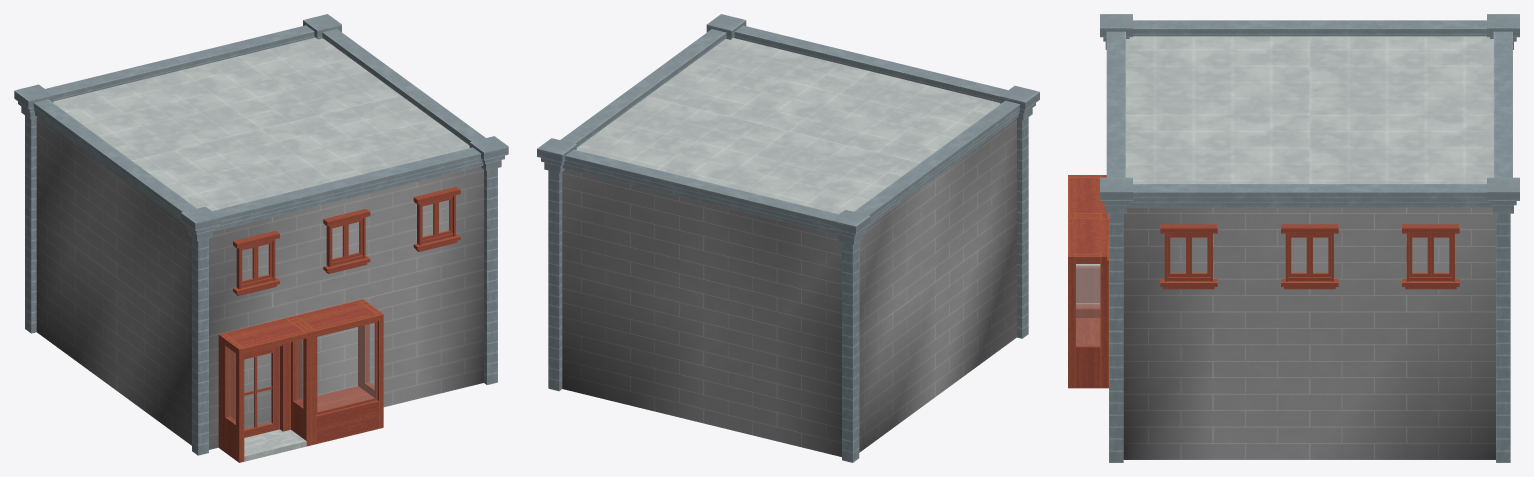
3 renders of one model, left to right at view 1: azimuth 30°, elevation 25°; view 2: azimuth 150°, elevation 25°; view 3: azimuth 270°, elevation 25°, orthographic. The views are drawn at different scales.
Parts seen in each view (by area): view 1: Wall.001, Post.002, Front1WindowHalf.001, Front1.001, Front1Door.001, Front1.002, Window5.007, Window5.010, Window5.004, Window5.005, Window5.008, Window5.011 (+3 smaller); view 2: Wall.001, Post.002; view 3: Wall.001, Post.002, Front1WindowHalf.001, Front1.001, Window5.013, Window5.016, Window5.019, Window5.012, Window5.014, Window5.015, Window5.017, Window5.018 (+1 smaller).
Part boxes in pixels (bbox=[...]): Wall.001: bbox=[36, 117, 483, 449]; Post.002: bbox=[14, 14, 508, 455]; Front1WindowHalf.001: bbox=[291, 299, 383, 444]; Front1.001: bbox=[218, 317, 311, 462]; Front1Door.001: bbox=[244, 346, 279, 437]; Front1.002: bbox=[244, 429, 306, 461]; Window5.007: bbox=[323, 208, 370, 273]; Window5.010: bbox=[413, 186, 460, 251]; Window5.004: bbox=[233, 231, 279, 295]; Window5.005: bbox=[256, 241, 272, 280]; Window5.008: bbox=[346, 219, 362, 258]; Window5.011: bbox=[436, 197, 452, 236]; Wall.001: bbox=[562, 119, 1016, 456]; Post.002: bbox=[537, 14, 1039, 462]; Wall.001: bbox=[1123, 207, 1495, 459]; Post.002: bbox=[1100, 14, 1519, 462]; Front1WindowHalf.001: bbox=[1068, 216, 1108, 388]; Front1.001: bbox=[1068, 175, 1108, 306]; Window5.013: bbox=[1160, 224, 1217, 289]; Window5.016: bbox=[1281, 224, 1338, 289]; Window5.019: bbox=[1402, 224, 1459, 289]; Window5.012: bbox=[1167, 235, 1188, 276]; Window5.014: bbox=[1189, 235, 1210, 276]; Window5.015: bbox=[1288, 235, 1309, 276]; Window5.017: bbox=[1310, 235, 1331, 276]; Window5.018: bbox=[1409, 235, 1430, 276].
Size of the model in its own units: 8.68 by 6.28 by 9.34.
Materials: 5 (4 with a texture image).
